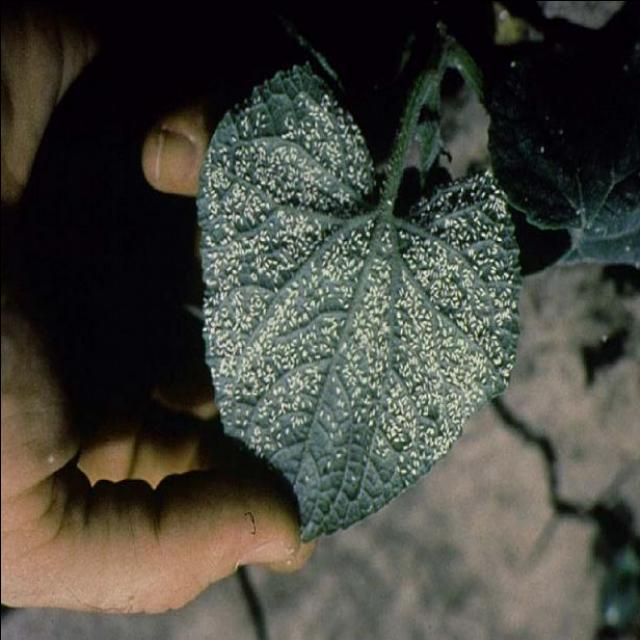Whitefly: (194, 62, 525, 504)
